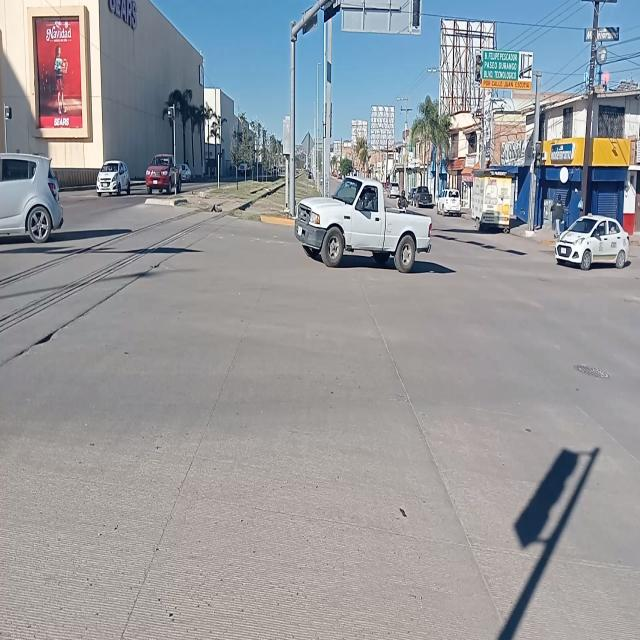Auto: (292, 173, 435, 281), (552, 209, 632, 273), (142, 146, 182, 201), (92, 153, 132, 201), (436, 185, 464, 224)
Peaton: (551, 191, 567, 238)
